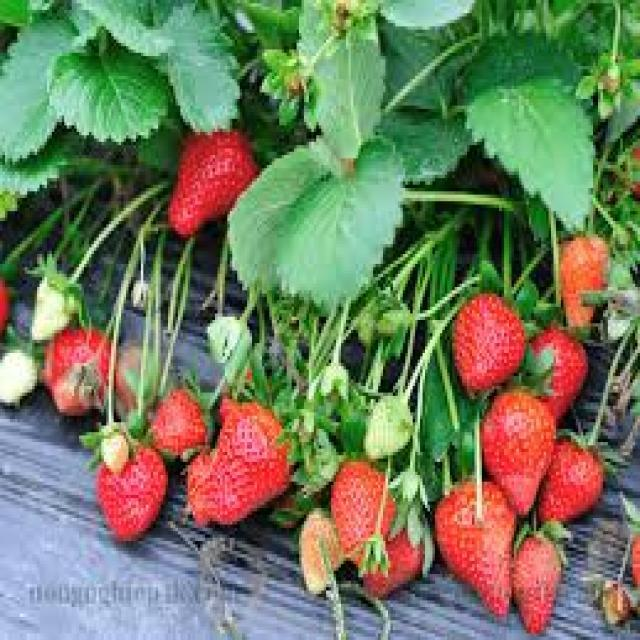Fruta sana: (436, 472, 516, 624), (195, 408, 291, 533), (169, 106, 256, 236), (480, 385, 556, 521), (90, 441, 174, 549), (536, 416, 606, 532), (448, 292, 524, 398), (333, 448, 397, 563), (528, 320, 592, 414), (514, 522, 568, 630), (50, 319, 110, 412)
